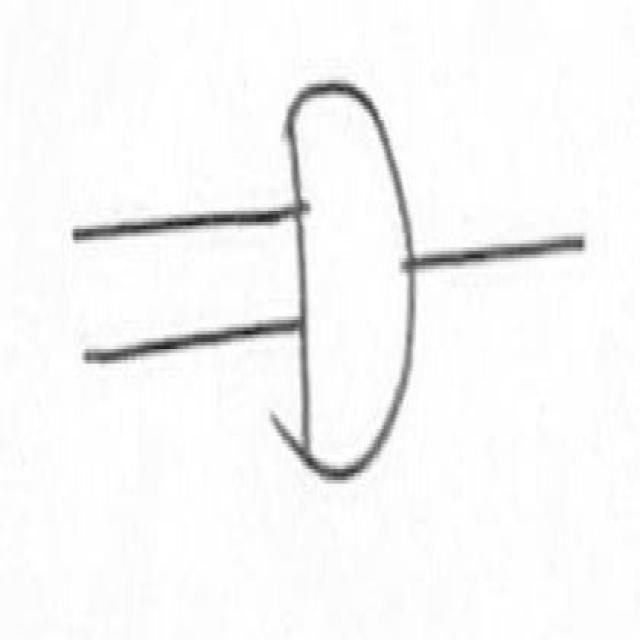AND: (274, 78, 435, 500)
